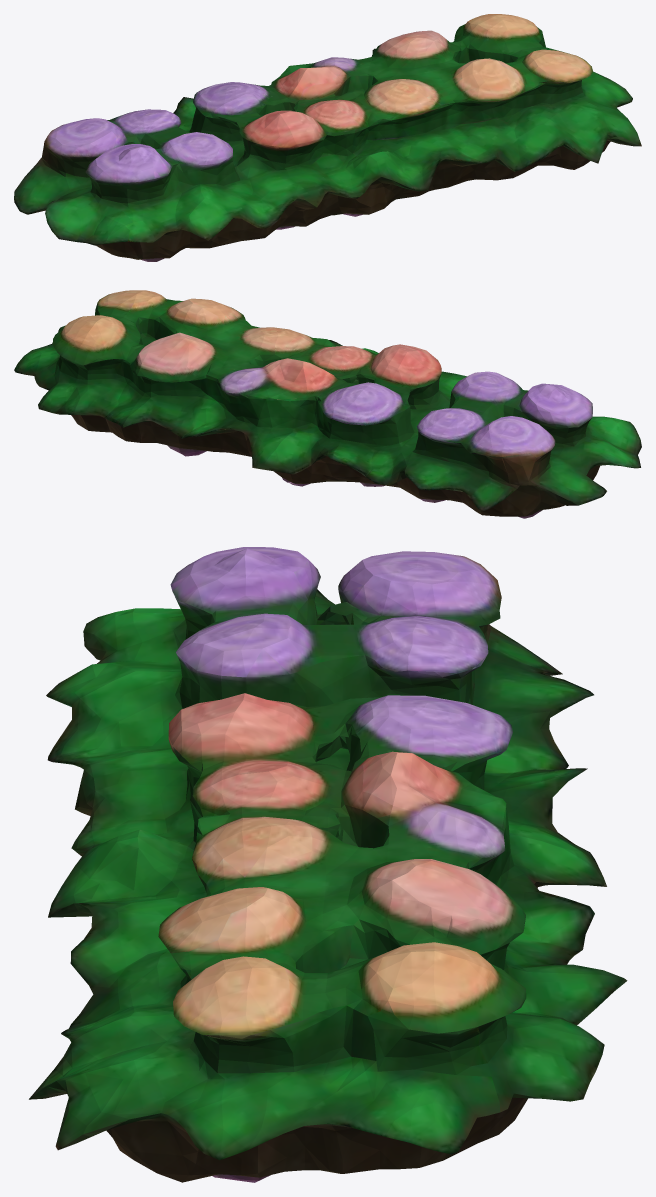
Rendered from flowers_bed.glb.
3 views of the same model, one above another, from view 1: azimuth 30°, elevation 25°; view 2: azimuth 150°, elevation 25°; view 3: azimuth 270°, elevation 25° (orthographic). The views are drawn at different scales.
Visible parts, largest first — view 1: world; view 2: world; view 3: world.
Part boxes in pixels (x1,y1,x2,y2): world: (14, 14, 641, 261); world: (14, 290, 641, 518); world: (29, 547, 627, 1182).
Bounding box in the file's own units: 0.986 × 0.188 × 0.4446.
1 material, 1 textured.
